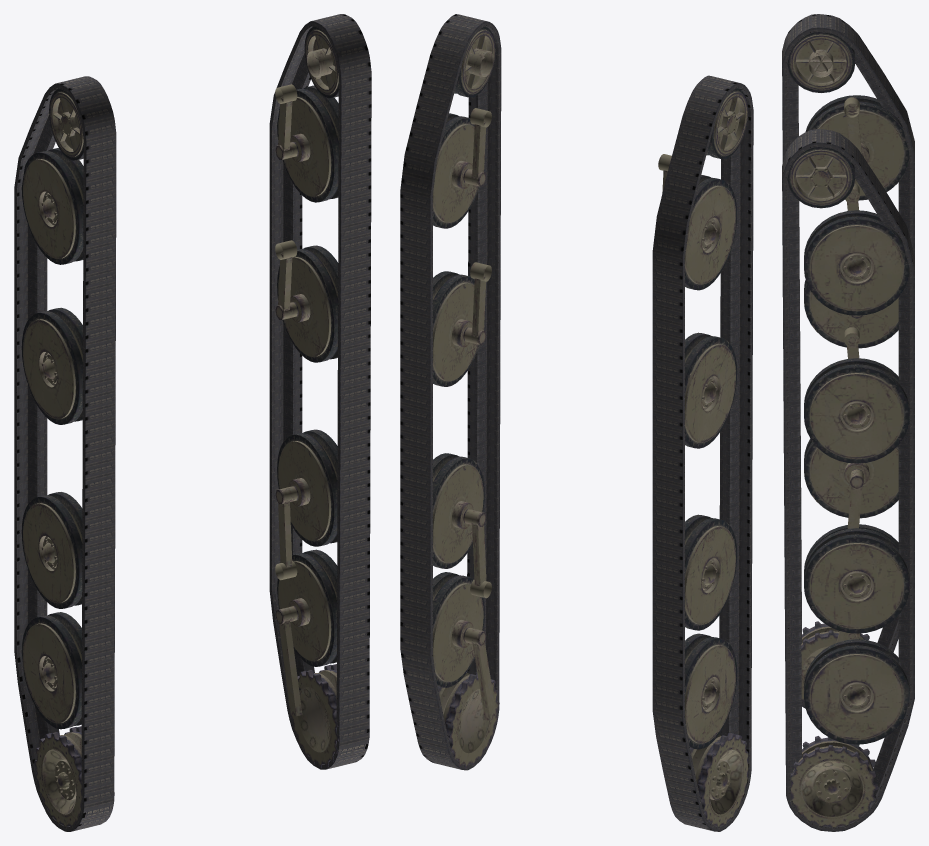
Rendered from Chassis.glb.
3 views of the same model, side by side, from view 1: azimuth 30°, elevation 25°; view 2: azimuth 150°, elevation 25°; view 3: azimuth 270°, elevation 25° (orthographic). The views are drawn at different scales.
Parts seen in each view (by area): view 1: set_1_group_0, set_0_group_0, set_3_group_0, set_2_group_0; view 2: set_1_group_0, set_0_group_0, set_3_group_0, set_2_group_0; view 3: set_3_group_0, set_0_group_0, set_2_group_0, set_1_group_0.
Part boxes in pixels (x1=…): set_1_group_0: x1=14, y1=76, x2=116, y2=831; set_0_group_0: x1=269, y1=14, x2=371, y2=769; set_3_group_0: x1=275, y1=26, x2=338, y2=768; set_2_group_0: x1=21, y1=88, x2=114, y2=826; set_1_group_0: x1=652, y1=75, x2=753, y2=831; set_0_group_0: x1=400, y1=14, x2=501, y2=770; set_3_group_0: x1=433, y1=26, x2=499, y2=768; set_2_group_0: x1=658, y1=88, x2=748, y2=826; set_3_group_0: x1=787, y1=147, x2=909, y2=827; set_0_group_0: x1=782, y1=129, x2=914, y2=831; set_2_group_0: x1=787, y1=32, x2=909, y2=701; set_1_group_0: x1=782, y1=14, x2=914, y2=708.
Bounding box in the file's own units: 2.33 × 5.78 × 1.01.
Materials: 4 (4 with a texture image).
